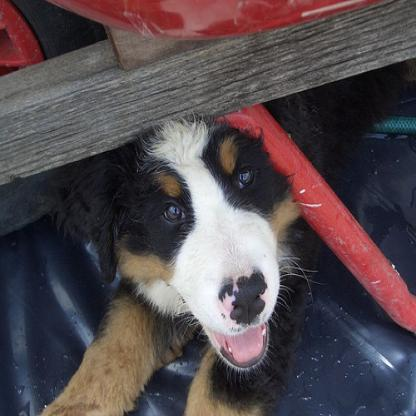dog: (39, 84, 327, 415)
